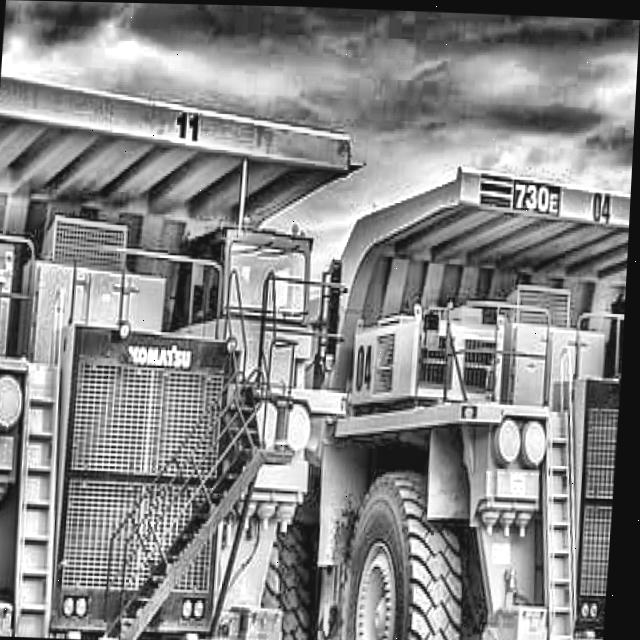dump_truck: (0, 65, 319, 640), (329, 154, 634, 640)
